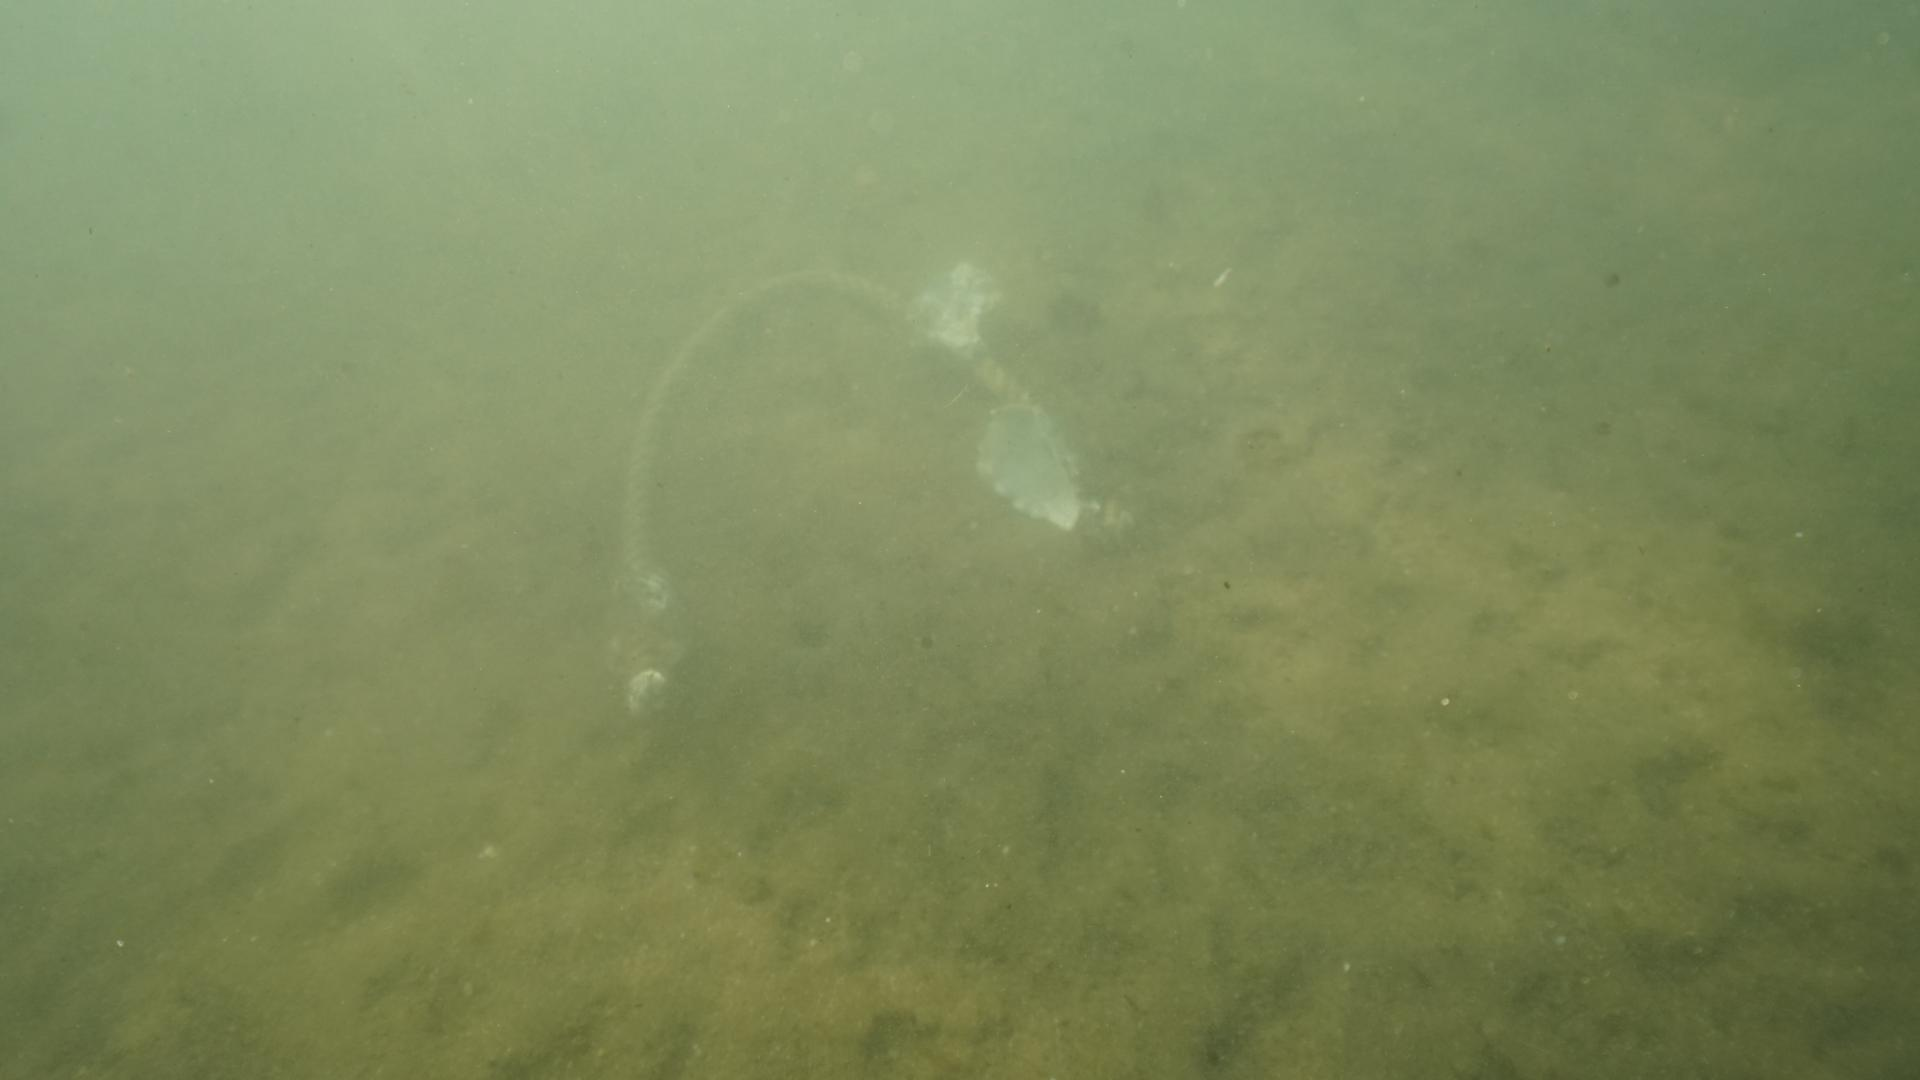rope: (607, 237, 1080, 717)
